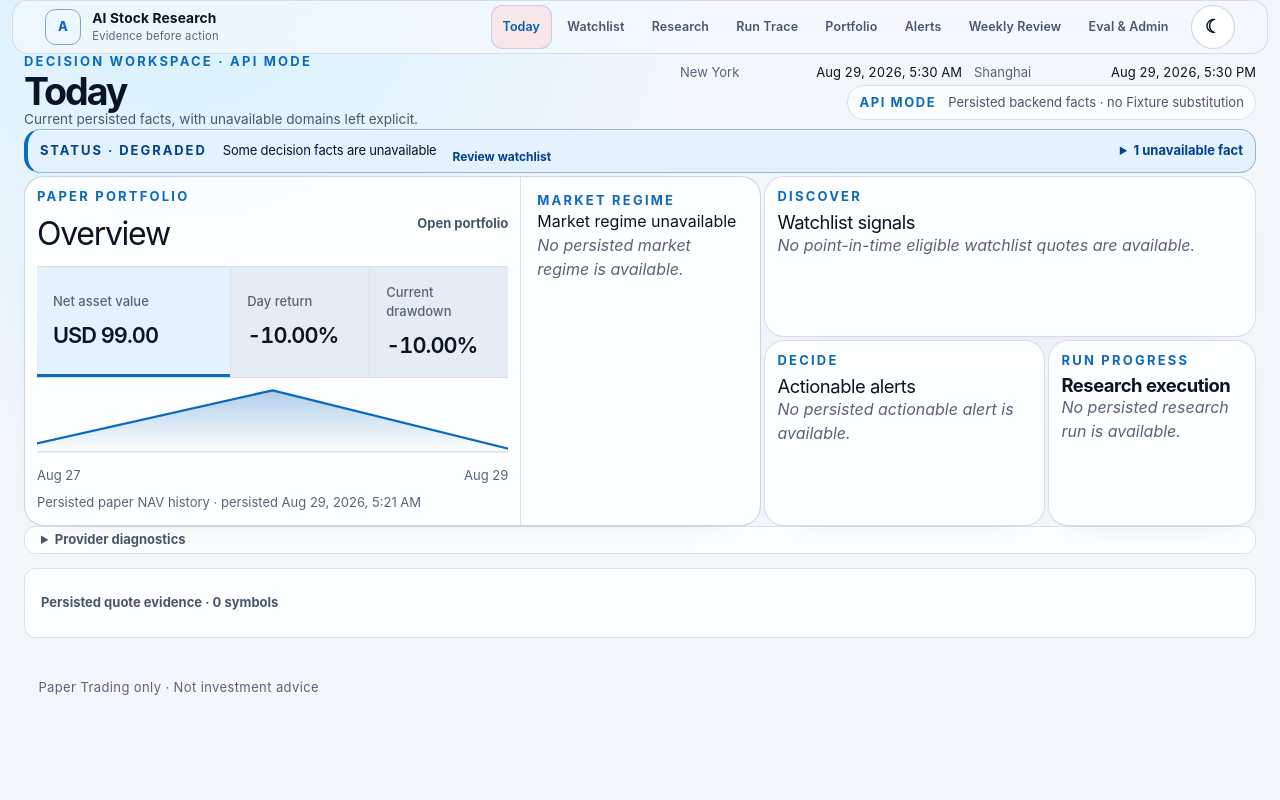
Test: API mode pages › charts persisted API NAV history and derives the latest return and drawdown
This screenshot has width=1280, height=800.
Expected: the element named "Performance metric" is shown, [37,266,508,378]
Expected: the picture named "Net asset value history" is shown, [37,378,508,458]
What coordinates should you click on to do the following:
click the tab "Day return -10.00%"
I would click on:
 (300, 322)
Its box is [231,266,369,377].
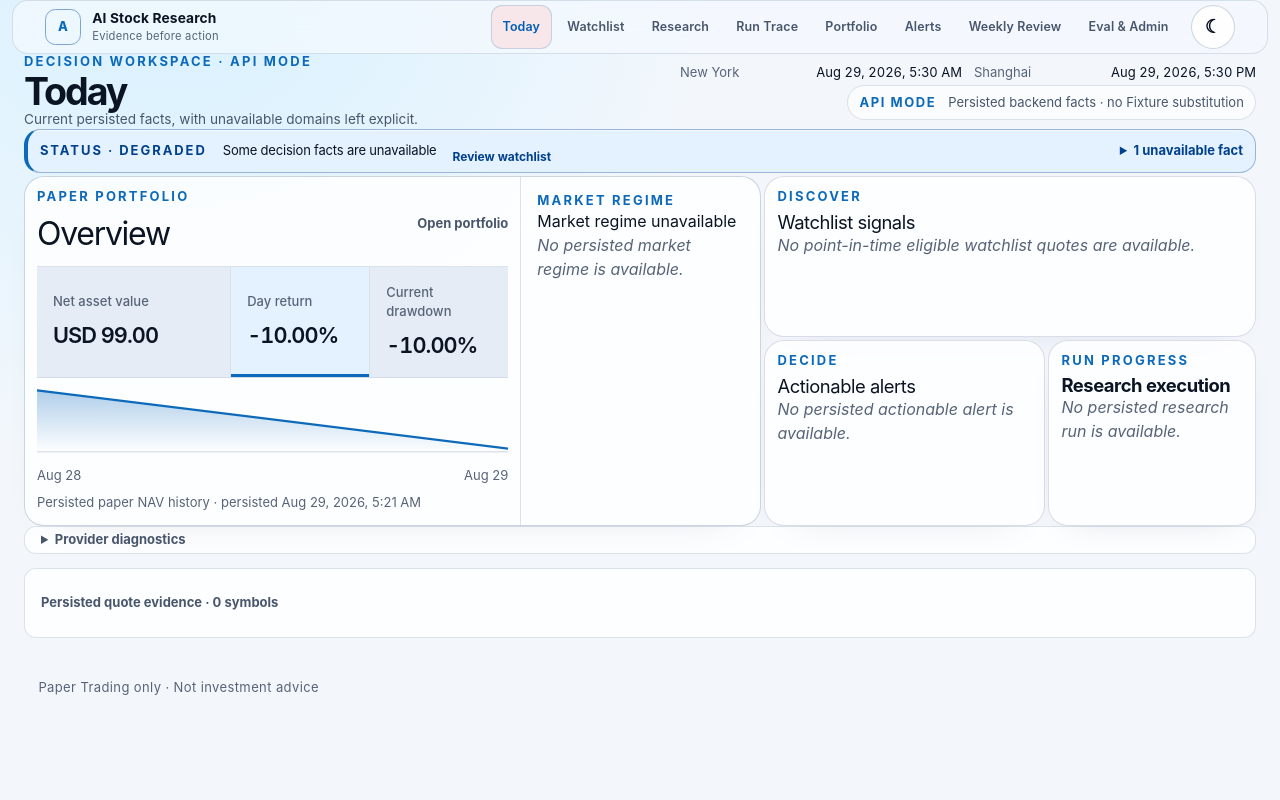
Now the picture named "Day return history" is shown, box [37,378,508,458]
What coordinates should you click on to do the following:
click the tab "Current drawdown -10.00%"
I would click on:
 (439, 322)
Its box is [370,266,508,377].
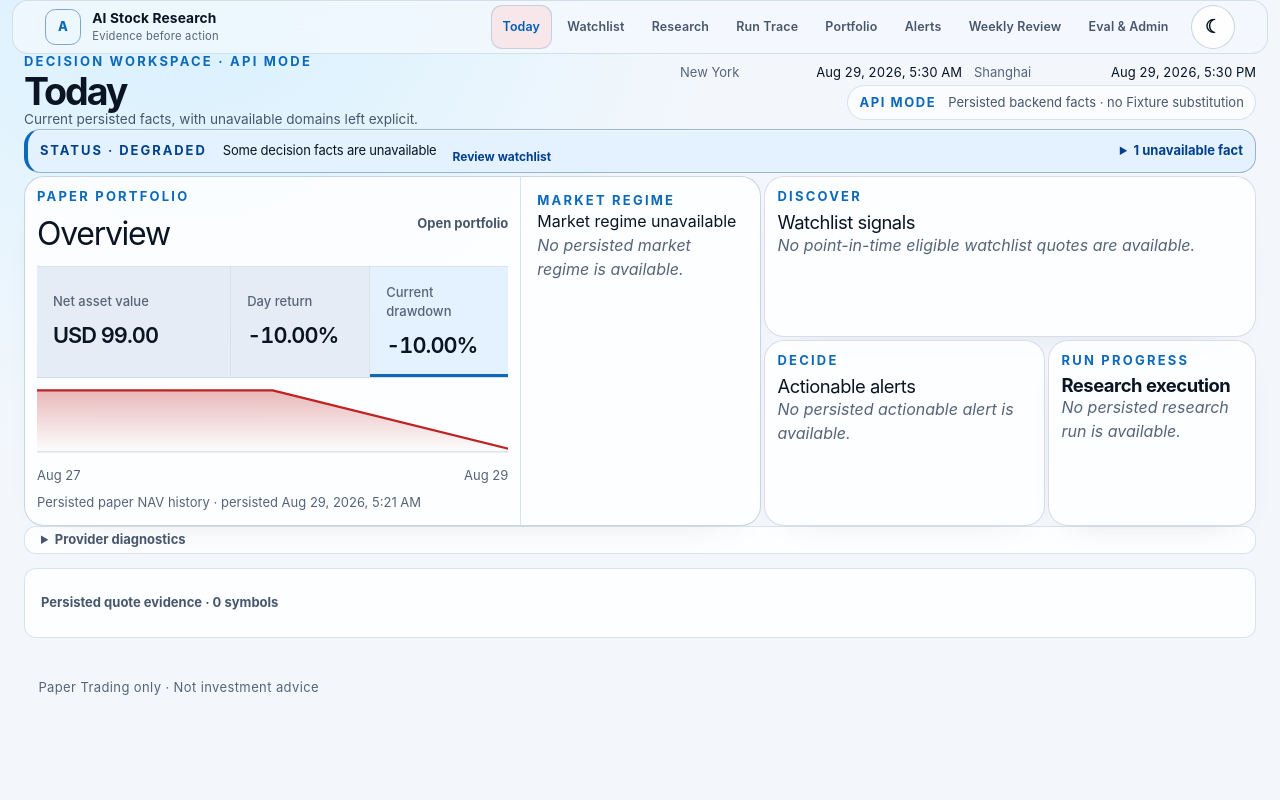
Now the picture named "Current drawdown history" is shown, box [37,378,508,458]
